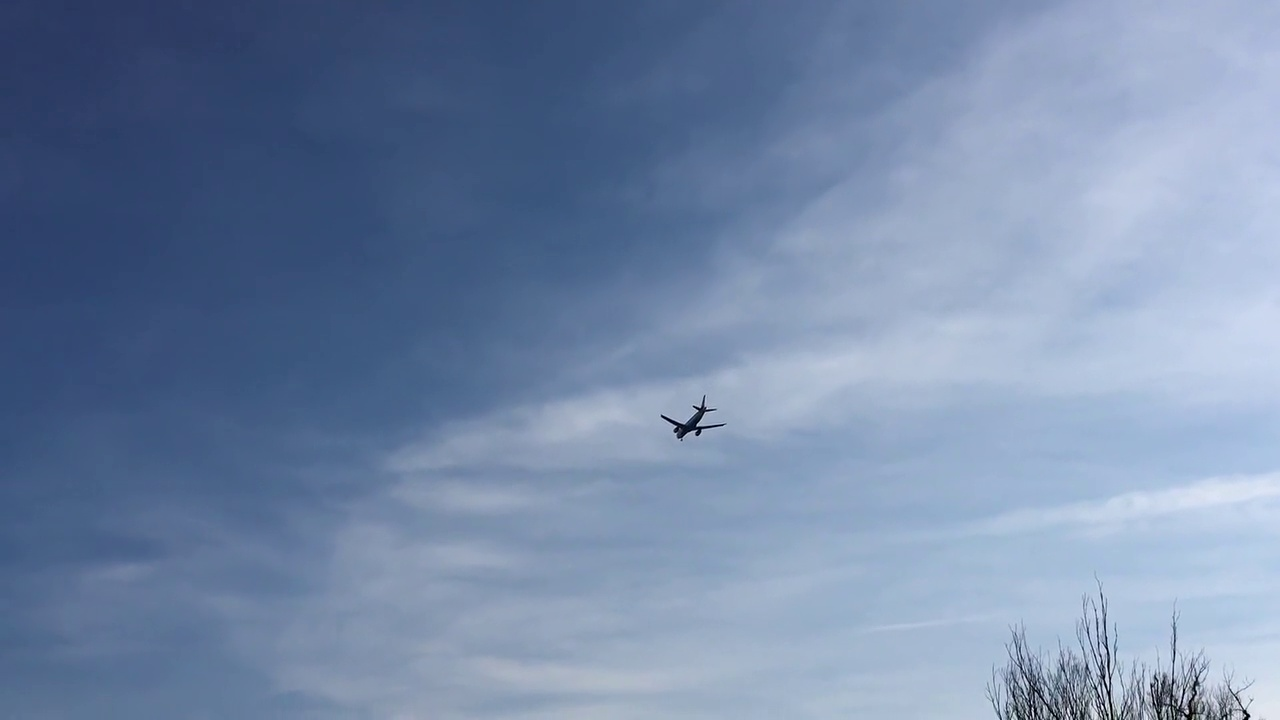plane: (658, 394, 727, 440)
